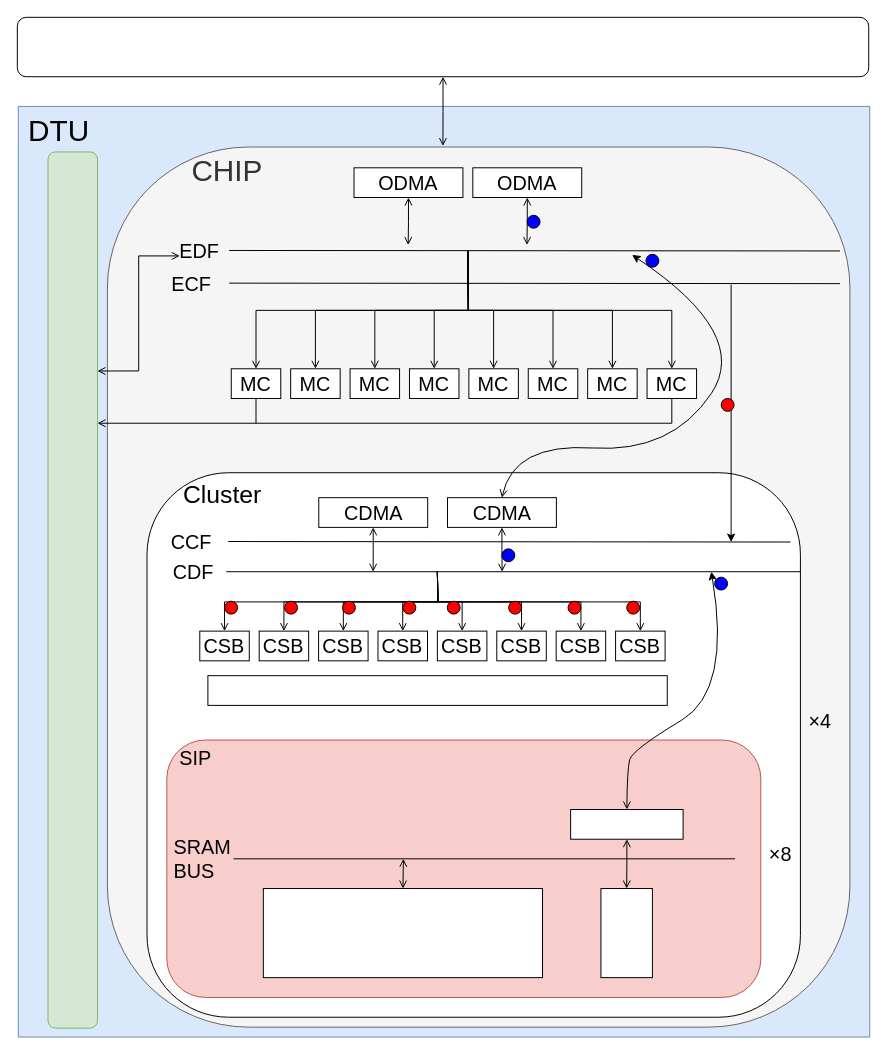
This 887x1054 diagram has some shape labels left out. Each missing label, with the centre of its shape:
"Cluster Memory(4MB SRAM)" belongs at point (437, 690).
"HBM(8G×2)" belongs at point (72, 589).
"SDMA" belongs at point (626, 824).
"SIP Core" belongs at point (402, 933).
"SRAM 256K" belongs at point (626, 933).
"System Memory" belongs at point (442, 46).
